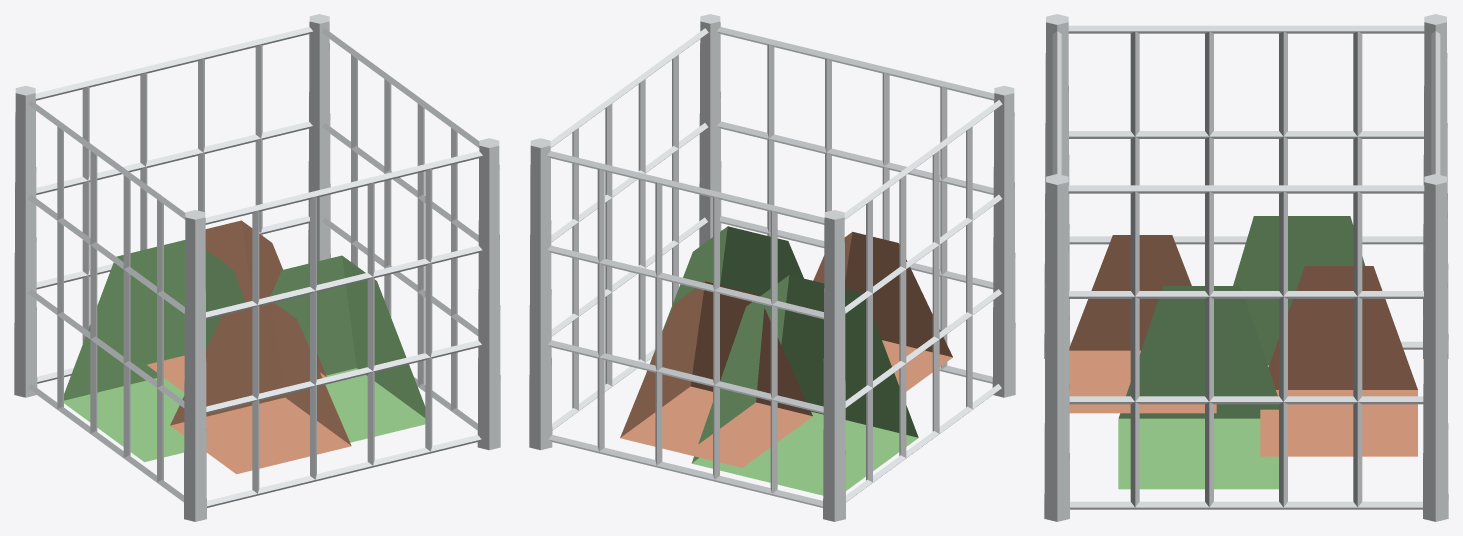
File: allotments-and-community-garden-leaf-mould-cage-eb7d3112__35141.glb
3 views of the same model, side by side, from view 1: azimuth 30°, elevation 25°; view 2: azimuth 150°, elevation 25°; view 3: azimuth 270°, elevation 25° (orthographic). The views are drawn at different scales.
Parts seen in each view (by area): view 1: leaf-mould-cage-galv, leaf-mould-cage-leaf, leaf-mould-cage-terracotta; view 2: leaf-mould-cage-galv, leaf-mould-cage-leaf, leaf-mould-cage-terracotta; view 3: leaf-mould-cage-galv, leaf-mould-cage-terracotta, leaf-mould-cage-leaf.
Part boxes in pixels (bbox=[...]): leaf-mould-cage-galv: bbox=[14, 14, 500, 521]; leaf-mould-cage-leaf: bbox=[64, 240, 425, 461]; leaf-mould-cage-terracotta: bbox=[147, 220, 351, 474]; leaf-mould-cage-galv: bbox=[529, 14, 1015, 521]; leaf-mould-cage-leaf: bbox=[650, 226, 918, 495]; leaf-mould-cage-terracotta: bbox=[620, 231, 952, 467]; leaf-mould-cage-galv: bbox=[1044, 14, 1448, 521]; leaf-mould-cage-terracotta: bbox=[1069, 235, 1417, 456]; leaf-mould-cage-leaf: bbox=[1118, 216, 1365, 489].
Size of the model in its own units: 1.1 by 1 by 1.09.
